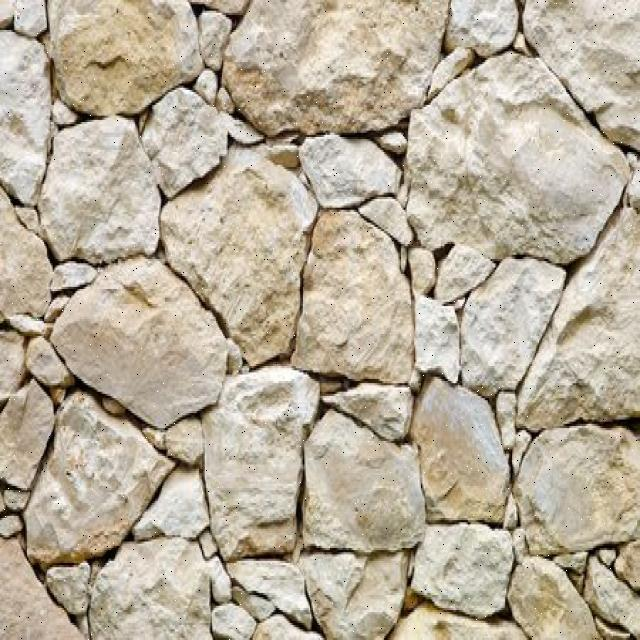Sedimentary: (1, 2, 638, 638)
